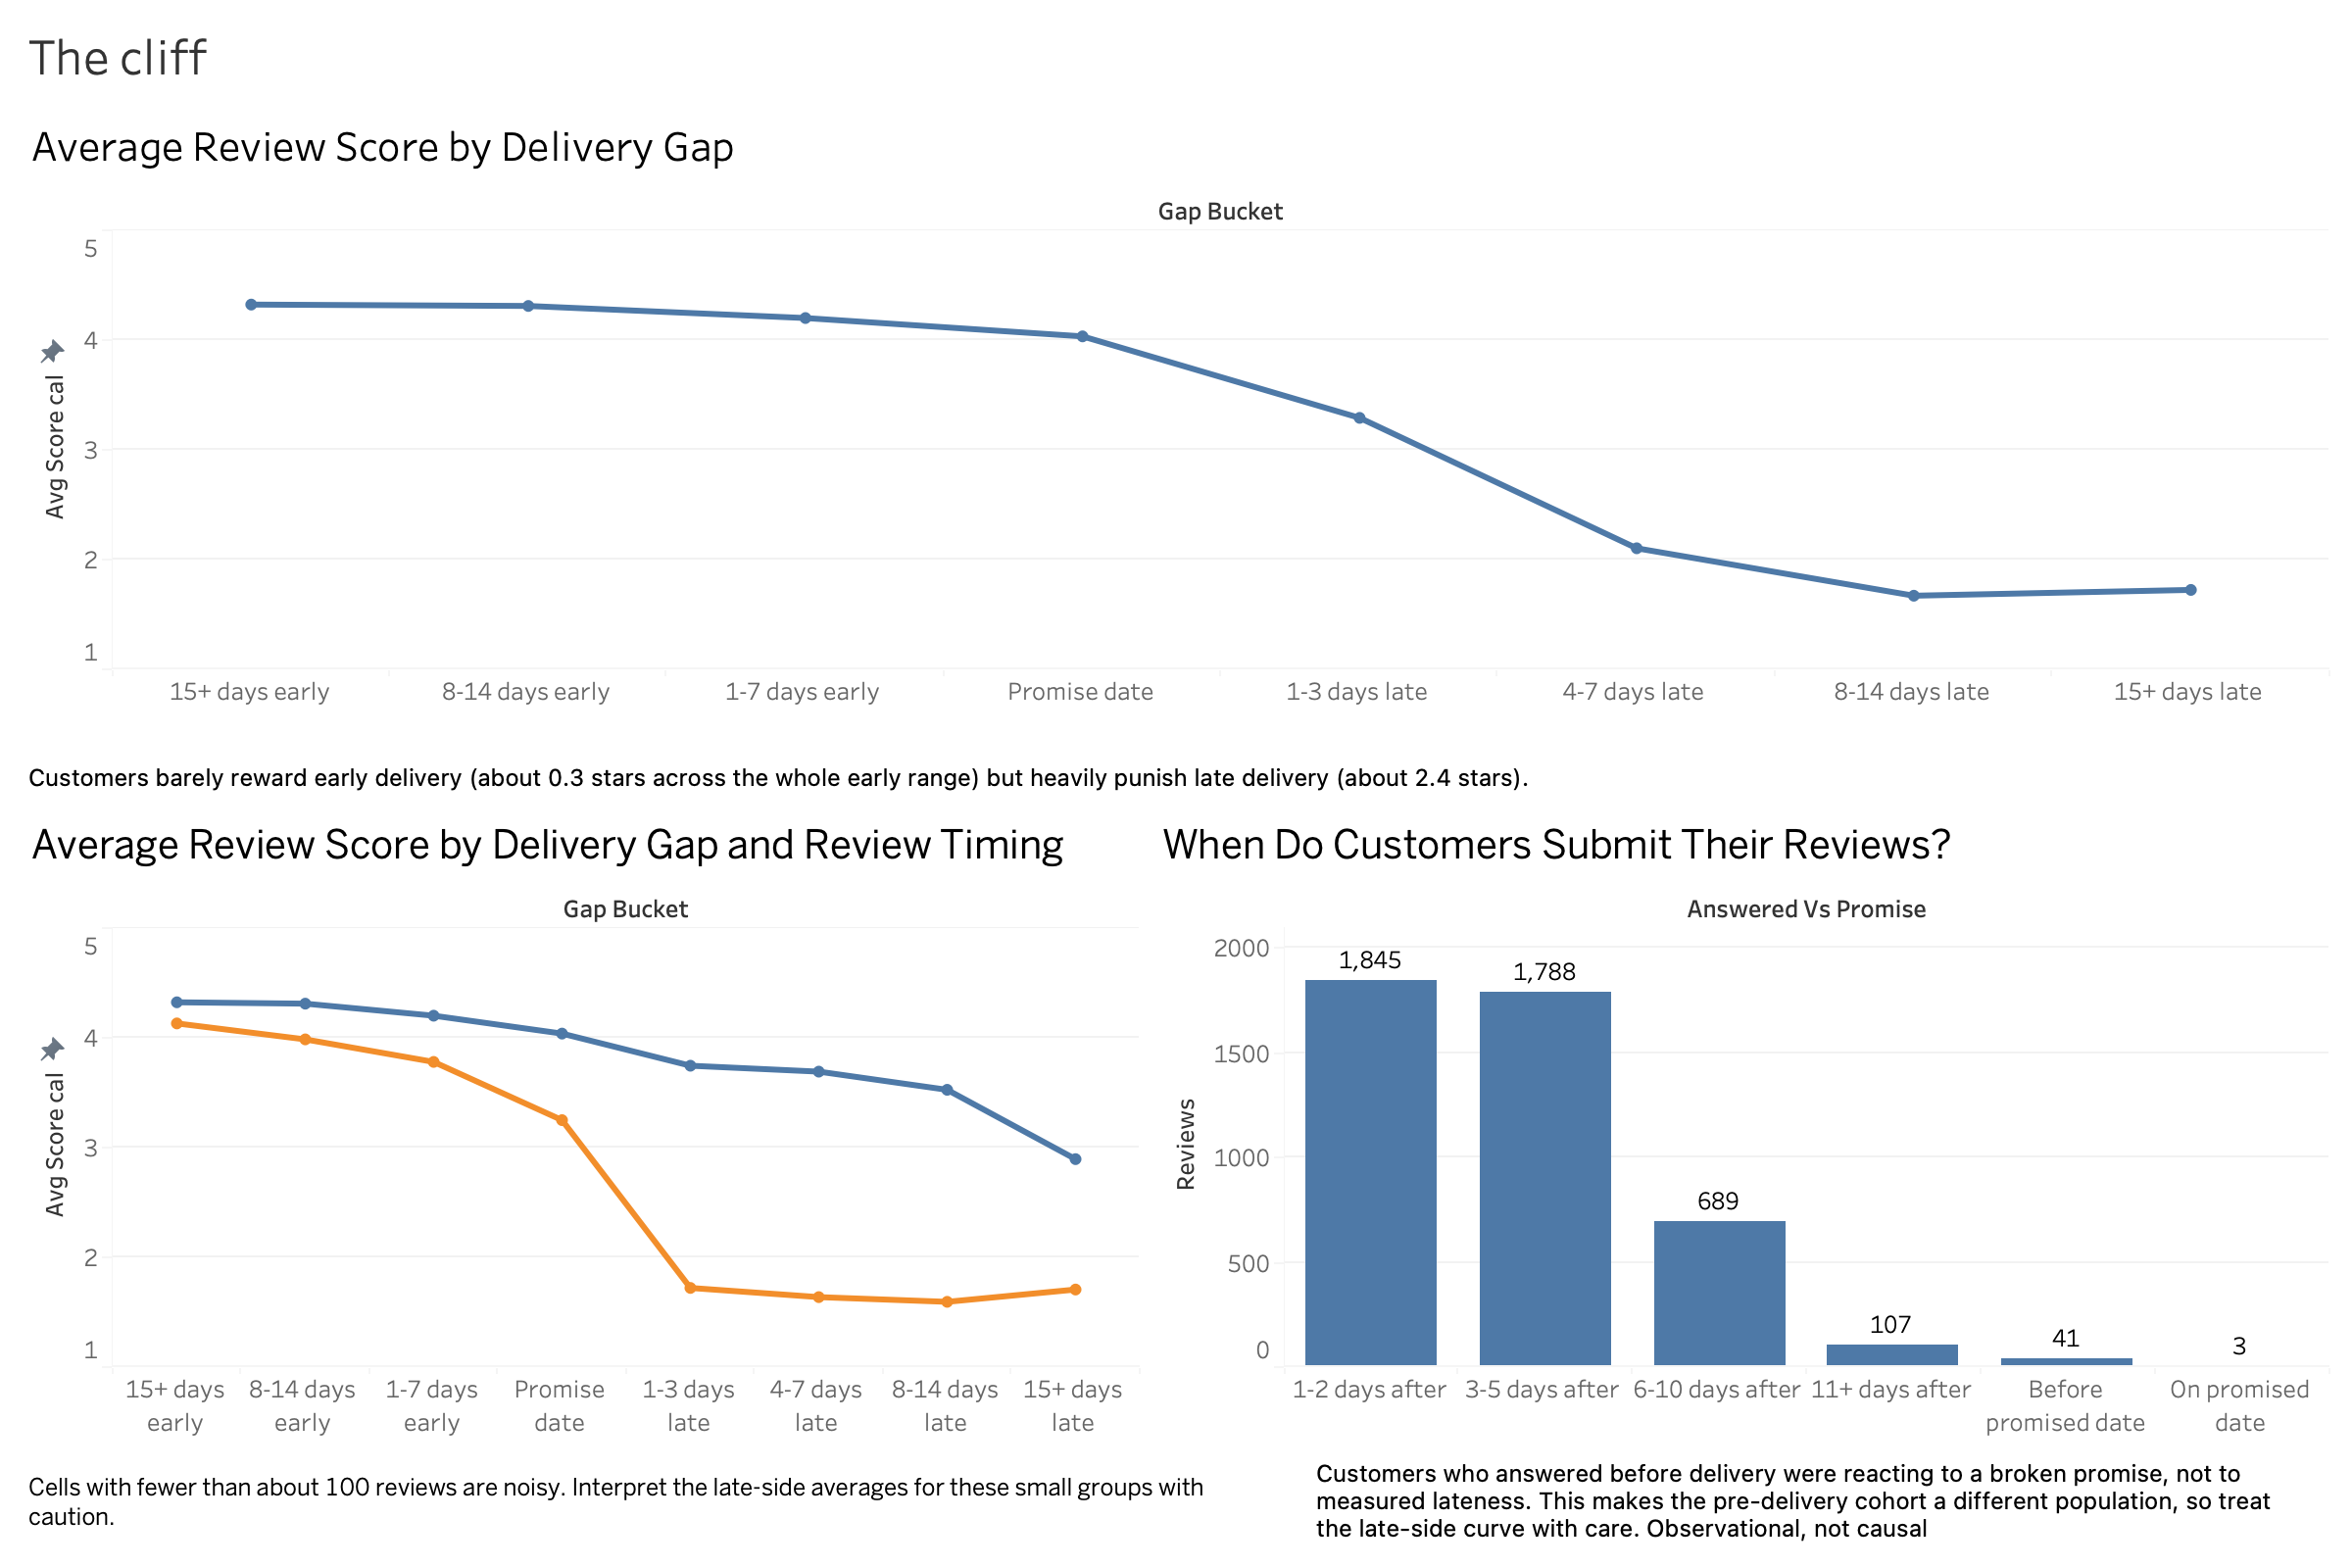

The dashboard page shown, as its layout file describes it:
{"tool":"tableau","page":{"name":"The cliff","canvas":[1200,800],"ordinal":2},"visuals":[{"type":"title","box":[8,8,1184,42]},{"type":"worksheet","title":"Delivery Gap (Overall)","mark":"Line","rows":["Calculation_3002061666803719"],"cols":["gap_bucket"],"box":[8,50,1184,335.5]},{"type":"text","box":[8,385.5,1184,23]},{"type":"worksheet","title":"Delivery Gap (Review Timing)","mark":"Line","rows":["Calculation_3002061666803719"],"cols":["gap_bucket"],"box":[8,408.5,577,333.5]},{"type":"worksheet","title":"Review Timing Distribution","mark":"Automatic","rows":["reviews"],"cols":["answered_vs_promise"],"box":[585,408.5,606.9,333.5]},{"type":"text","box":[8,742,657,50]},{"type":"text","box":[665,742,527,50]}]}

Visuals, with their boxes in screenshot pixels (x1, y1, x2, y2), scaled from the page's 1200x800 canvas onto the 2352x1568 screenshot:
title: [left=16, top=16, right=2336, bottom=98]
"Delivery Gap (Overall)" worksheet (Line marks): [left=16, top=98, right=2336, bottom=756]
text: [left=16, top=756, right=2336, bottom=801]
"Delivery Gap (Review Timing)" worksheet (Line marks): [left=16, top=801, right=1147, bottom=1454]
"Review Timing Distribution" worksheet: [left=1147, top=801, right=2336, bottom=1454]
text: [left=16, top=1454, right=1303, bottom=1552]
text: [left=1303, top=1454, right=2336, bottom=1552]
